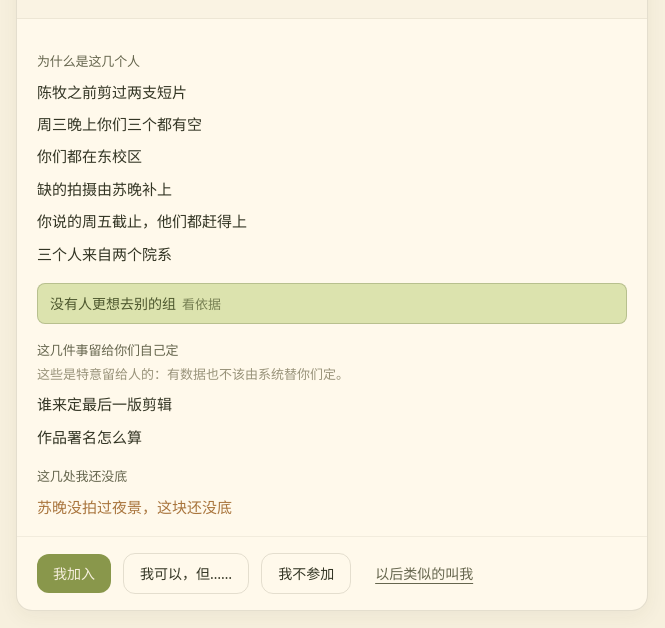
Test: 三个动作 › 「我可以，但……」把原话原样带过去
(page scrolled)
Click the button "我可以，但……" at [186, 574], box top-left (123, 553), bottom-right (249, 594)
(page scrolled)
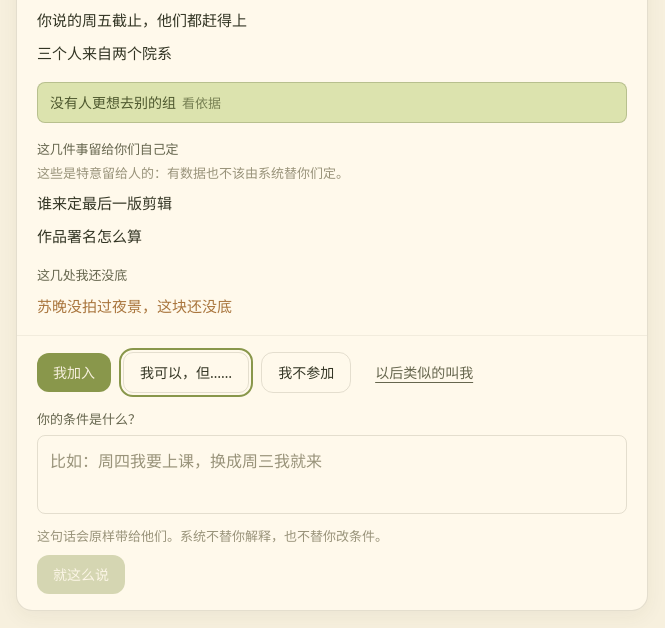
Check: the button "就这么说" is disabled, box top-left (37, 555), bottom-right (125, 594)
Type "周四我要上课，换成周三我就来" into the text box labelled "你的条件是什么？" at [332, 475], box top-left (37, 436), bottom-right (627, 514)
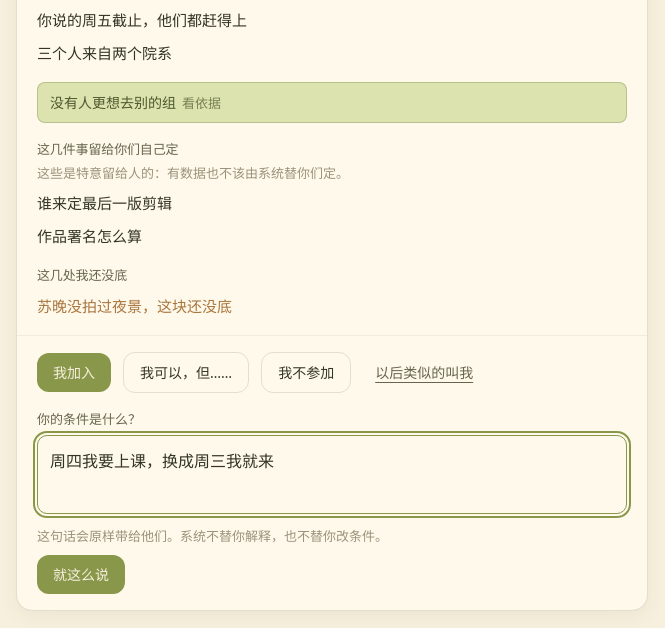
Click the button "就这么说" at [81, 575], box top-left (37, 555), bottom-right (125, 594)
(page scrolled)
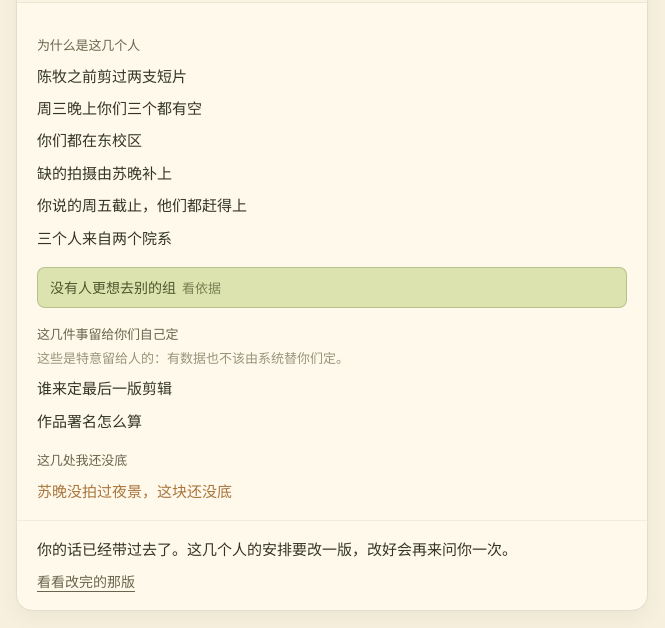
Check: the text "你的话已经带过去了。这几个人的安排要改一版，改好会再来问你一次。" is shown, box top-left (37, 539), bottom-right (517, 559)
Check: the button "看看改完的那版" is shown, box top-left (37, 570), bottom-right (135, 593)
